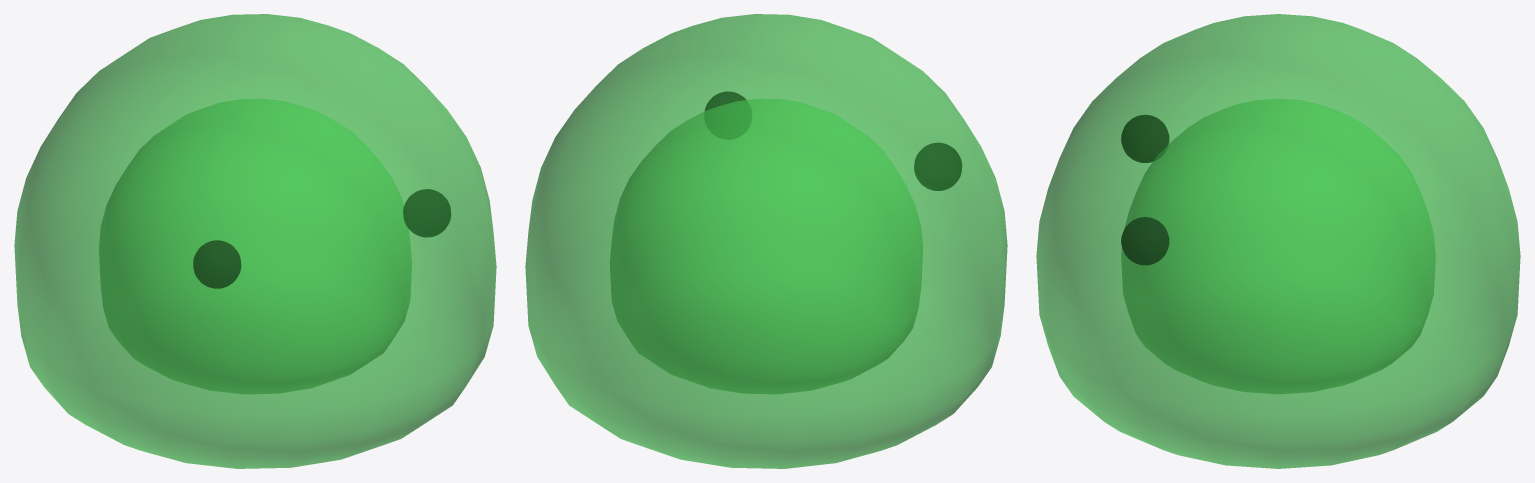
Rendered from Slime.fbx.
The picture shows the model from 3 angles, left to right: view 1: azimuth 30°, elevation 25°; view 2: azimuth 150°, elevation 25°; view 3: azimuth 270°, elevation 25°; orthographic projection.
Visible parts, largest first — view 1: Outside, Inside, Right_eye, Left_eye; view 2: Outside, Inside, Left_eye; view 3: Outside, Inside, Right_eye, Left_eye.
Part boxes in pixels (left/top/right/bottom): Outside: left=14, top=14, right=496, bottom=468; Inside: left=99, top=99, right=411, bottom=393; Right_eye: left=403, top=189, right=451, bottom=237; Left_eye: left=193, top=240, right=241, bottom=288; Outside: left=525, top=14, right=1007, bottom=468; Inside: left=610, top=99, right=922, bottom=393; Left_eye: left=914, top=142, right=962, bottom=190; Outside: left=1036, top=14, right=1520, bottom=468; Inside: left=1121, top=99, right=1435, bottom=393; Right_eye: left=1121, top=217, right=1169, bottom=265; Left_eye: left=1121, top=114, right=1169, bottom=162.
Bounding box in the file's own units: 1 × 0.8958 × 1.
